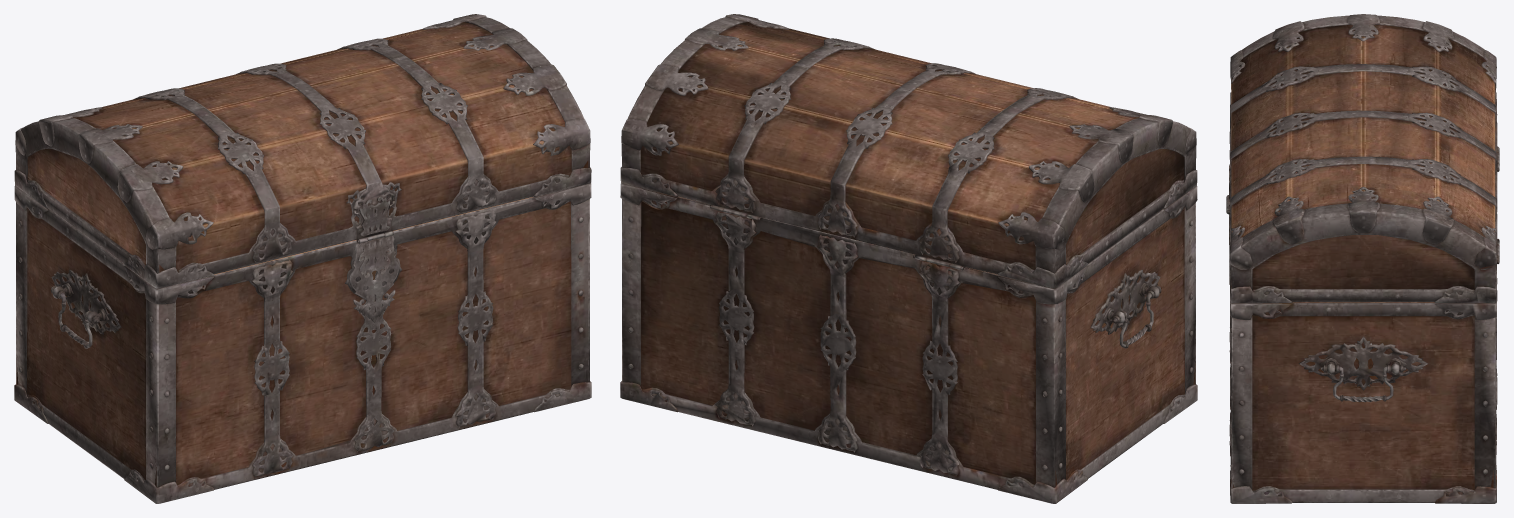
Rendered from treasure_chest.glb.
The picture shows the model from 3 angles, left to right: view 1: azimuth 30°, elevation 25°; view 2: azimuth 150°, elevation 25°; view 3: azimuth 270°, elevation 25°; orthographic projection. The views are drawn at different scales.
Visible parts, largest first — view 1: treasure_chest_bottom, treasure_chest_lid, treasure_chest_lock, treasure_chest_handle_left; view 2: treasure_chest_bottom, treasure_chest_lid; view 3: treasure_chest_lid, treasure_chest_bottom, treasure_chest_handle_right.
Part boxes in pixels (box(x1,y1,x2,y2)): treasure_chest_bottom: box(14, 183, 591, 503); treasure_chest_lid: box(14, 14, 591, 288); treasure_chest_lock: box(349, 233, 399, 322); treasure_chest_handle_left: box(50, 285, 100, 348); treasure_chest_bottom: box(620, 183, 1197, 503); treasure_chest_lid: box(620, 14, 1197, 288); treasure_chest_lid: box(1226, 14, 1499, 303); treasure_chest_bottom: box(1229, 152, 1499, 503); treasure_chest_handle_right: box(1320, 365, 1406, 402).
Size of the model in its own units: 0.959 by 0.6188 by 0.5223.
1 material, 1 textured.
